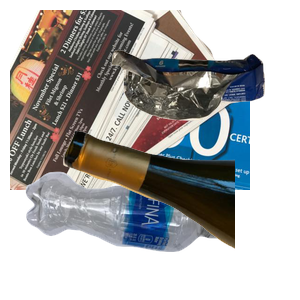glass: (60, 128, 300, 300)
paper: (10, 10, 250, 190)
plastic: (23, 169, 243, 300)
trash: (109, 47, 300, 160)
